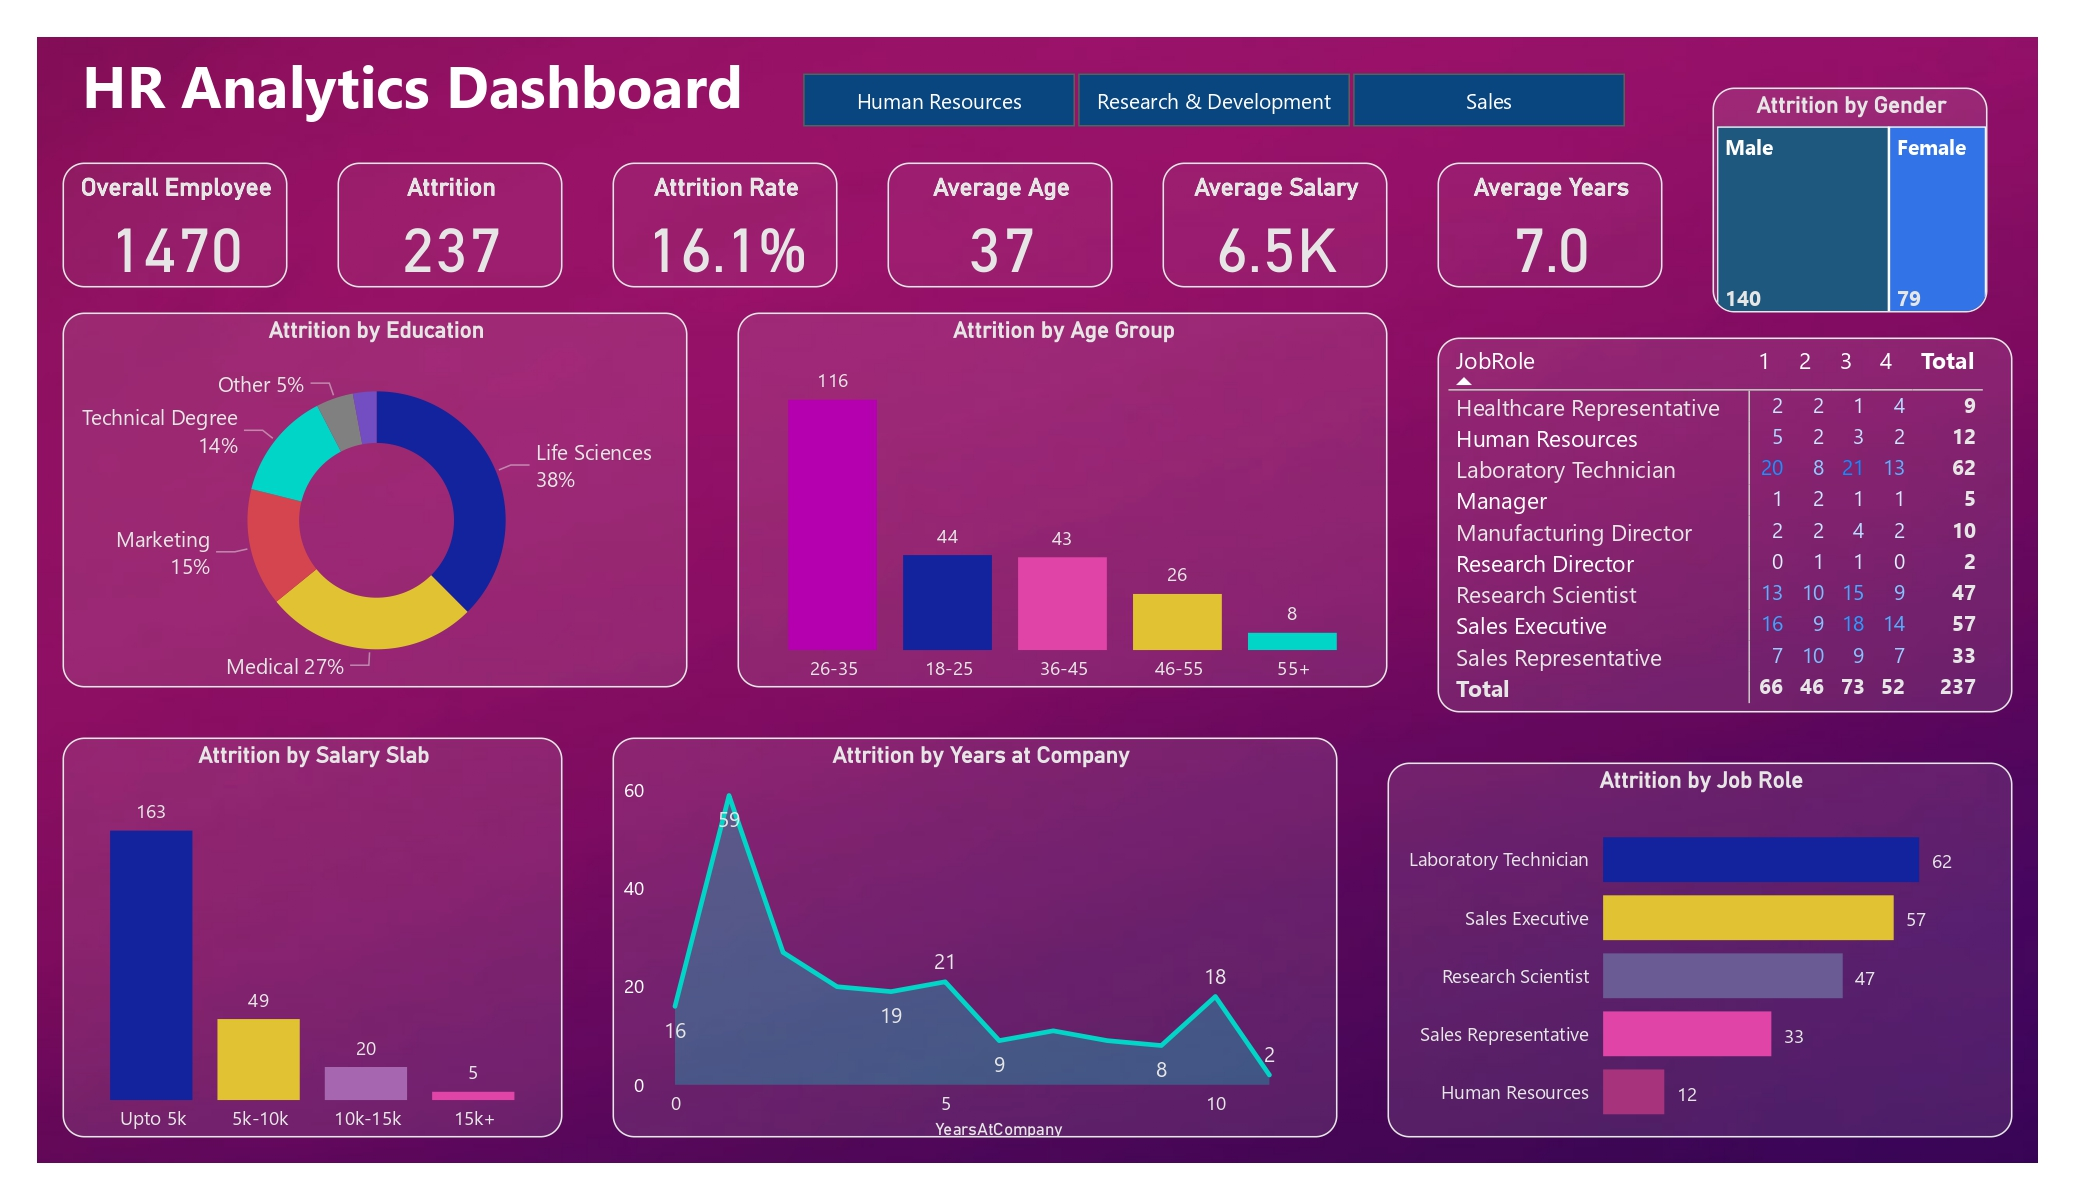

What the dashboard file says about the page in this screenshot:
{"tool":"powerbi","page":{"name":"Page 1","canvas":[1280,720],"ordinal":0},"visuals":[{"type":"card","title":"Overall Employee","fields":{"Values":["CountNonNull(HR_Analytics.EmpID)"]},"box":[16,80,144,80],"z":0},{"type":"card","title":"Attrition","fields":{"Values":["Sum(HR_Analytics.Attrition Count)"]},"box":[192,80,144,80],"z":1000},{"type":"card","title":"Attrition Rate","fields":{"Values":["HR_Analytics.Attrition Rate"]},"box":[368,80,144,80],"z":2000},{"type":"card","title":"Average Age","fields":{"Values":["Avg(HR_Analytics.Age)"]},"box":[544,80,144,80],"z":3000},{"type":"card","title":"Average Salary","fields":{"Values":["Avg(HR_Analytics.MonthlyIncome)"]},"box":[720,80,144,80],"z":4000},{"type":"card","title":"Average Years","fields":{"Values":["Avg(HR_Analytics.YearsAtCompany)"]},"box":[896,80,144,80],"z":5000},{"type":"donutChart","title":"Attrition by Education","fields":{"Y":["Sum(HR_Analytics.Attrition Count)"],"Category":["HR_Analytics.EducationField"]},"box":[16,176,400,240],"z":6000},{"type":"clusteredColumnChart","title":"Attrition by Age Group","fields":{"Y":["Sum(HR_Analytics.Attrition Count)"],"Category":["HR_Analytics.AgeGroup"]},"box":[448,176,416,240],"z":7000},{"type":"pivotTable","fields":{"Rows":["HR_Analytics.JobRole"],"Columns":["HR_Analytics.JobSatisfaction"],"Values":["Sum(HR_Analytics.Attrition Count)"]},"box":[896,192,368,240],"z":8000},{"type":"clusteredColumnChart","title":"Attrition by Salary Slab","fields":{"Y":["Sum(HR_Analytics.Attrition Count)"],"Category":["HR_Analytics.SalarySlab"]},"box":[16,448,320,256],"z":9000},{"type":"barChart","title":"Attrition by Job Role","fields":{"Category":["HR_Analytics.JobRole"],"Y":["Sum(HR_Analytics.Attrition Count)"]},"box":[864,464,400,240],"z":10000},{"type":"areaChart","title":"Attrition by Years at Company","fields":{"Y":["Sum(HR_Analytics.Attrition Count)"],"Category":["HR_Analytics.YearsAtCompany"]},"box":[368,448,464,256],"z":11000},{"type":"treemap","title":"Attrition by Gender","fields":{"Group":["HR_Analytics.Gender"],"Values":["Sum(HR_Analytics.Attrition Count)"]},"box":[1072,32,176,144],"z":12000},{"type":"textbox","box":[0,0,480,64],"z":13000},{"type":"slicer","fields":{"Values":["HR_Analytics.Department"]},"box":[464,16,576,48],"z":14000}]}

Visuals, with their boxes in screenshot pixels (x1, y1, x2, y2):
"Overall Employee" card: 62/162/288/288
"Attrition" card: 338/162/562/288
"Attrition Rate" card: 612/162/838/288
"Average Age" card: 888/162/1112/288
"Average Salary" card: 1162/162/1388/288
"Average Years" card: 1438/162/1662/288
"Attrition by Education" donutChart: 62/312/688/688
"Attrition by Age Group" clusteredColumnChart: 738/312/1388/688
pivotTable - HR_Analytics.JobRole x HR_Analytics.JobSatisfaction: 1438/338/2012/712
"Attrition by Salary Slab" clusteredColumnChart: 62/738/562/1138
"Attrition by Job Role" barChart: 1388/762/2012/1138
"Attrition by Years at Company" areaChart: 612/738/1338/1138
"Attrition by Gender" treemap: 1712/88/1988/312
textbox: 38/38/788/138
slicer - HR_Analytics.Department: 762/62/1662/138
